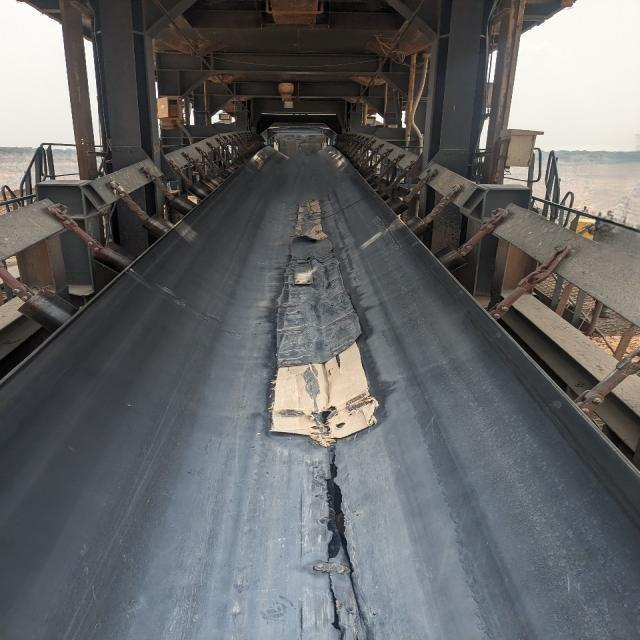Hole: (313, 404, 337, 430)
Tear: (321, 443, 382, 638)
